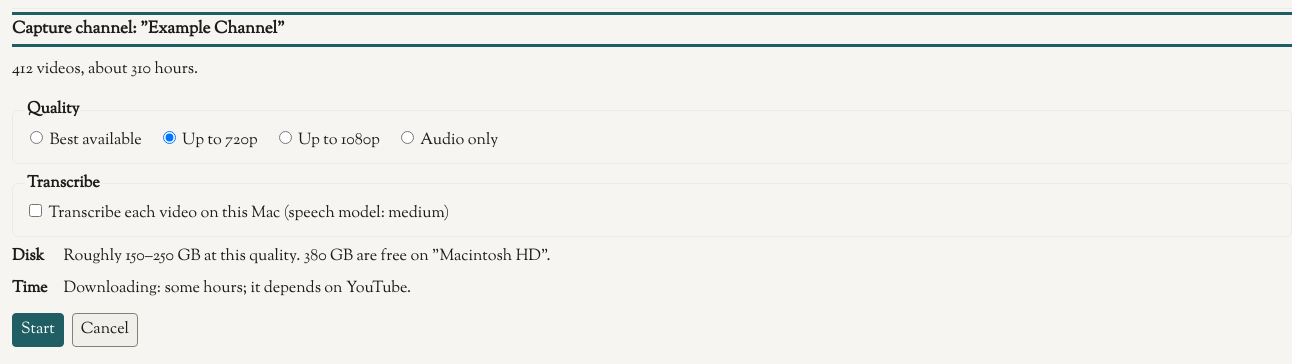
Test case: CaptureEstimate › changing the quality changes the size
The image size is (1292, 364).
Click the radio button labelled "Audio only". click: (407, 137)
box: [401,131,414,144]
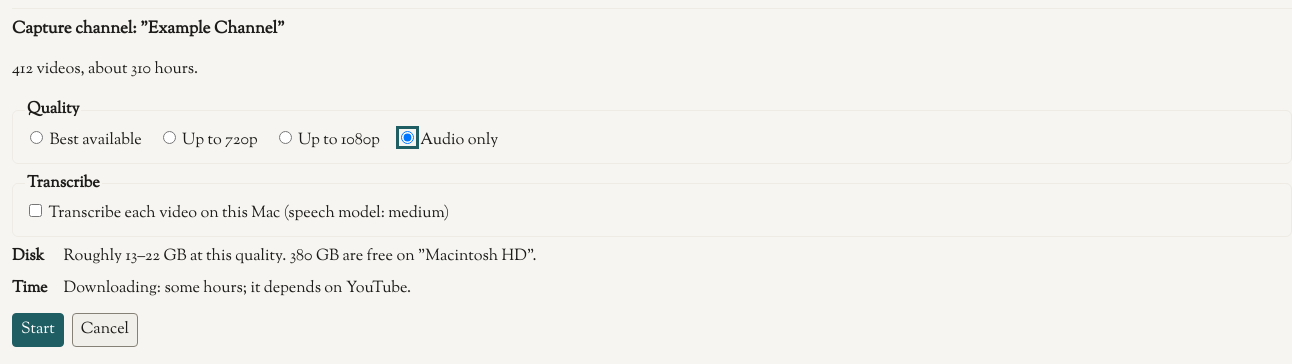
Expected: the radio button labelled "Audio only" is checked, [401,131,414,144]
Expected: the text "Roughly 13–22 GB at this quality. 380 GB are free on \"Macintosh HD\"." is shown, [64,245,536,268]
Expected: the text "150–250 GB" is gone
